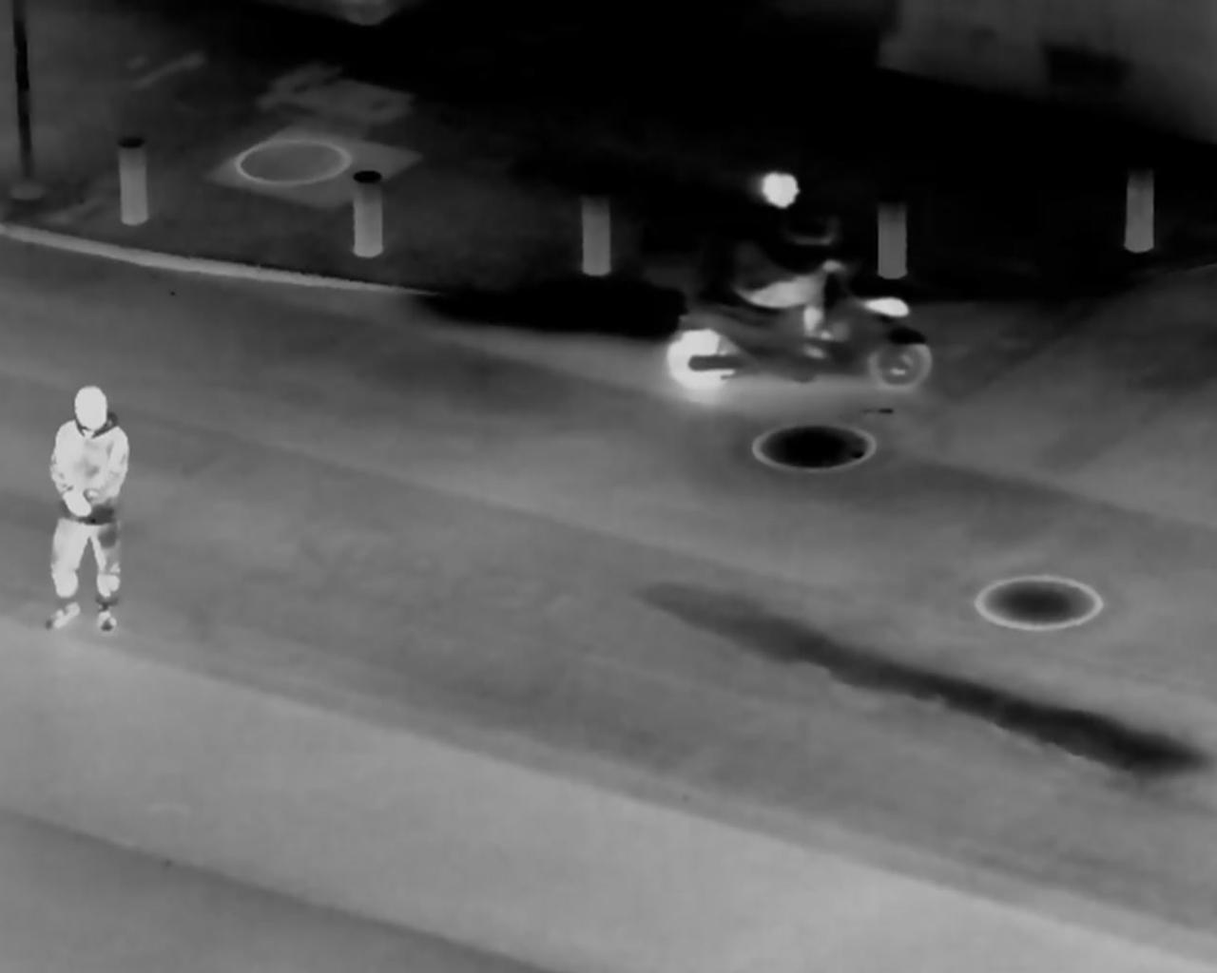person: (730, 166, 846, 354), (49, 384, 127, 641)
